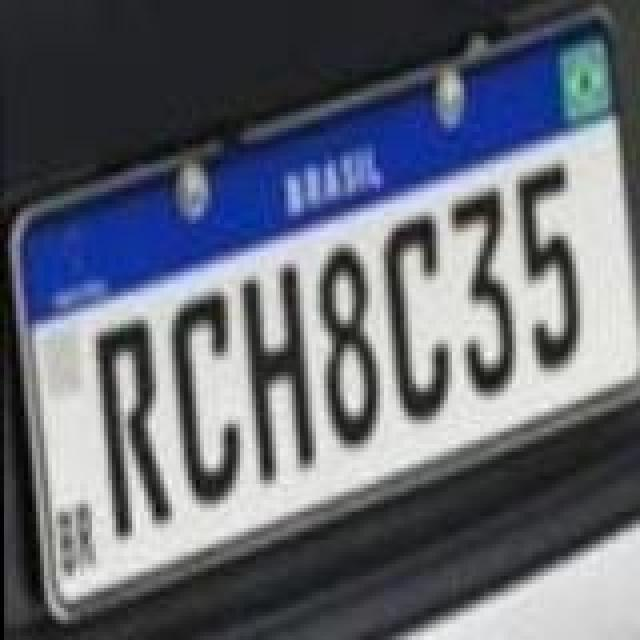3: (448, 190, 516, 402)
5: (516, 160, 584, 376)
8: (312, 242, 380, 446)
C: (170, 292, 242, 508), (382, 210, 454, 422)
H: (234, 260, 314, 484)
R: (90, 316, 170, 548)
